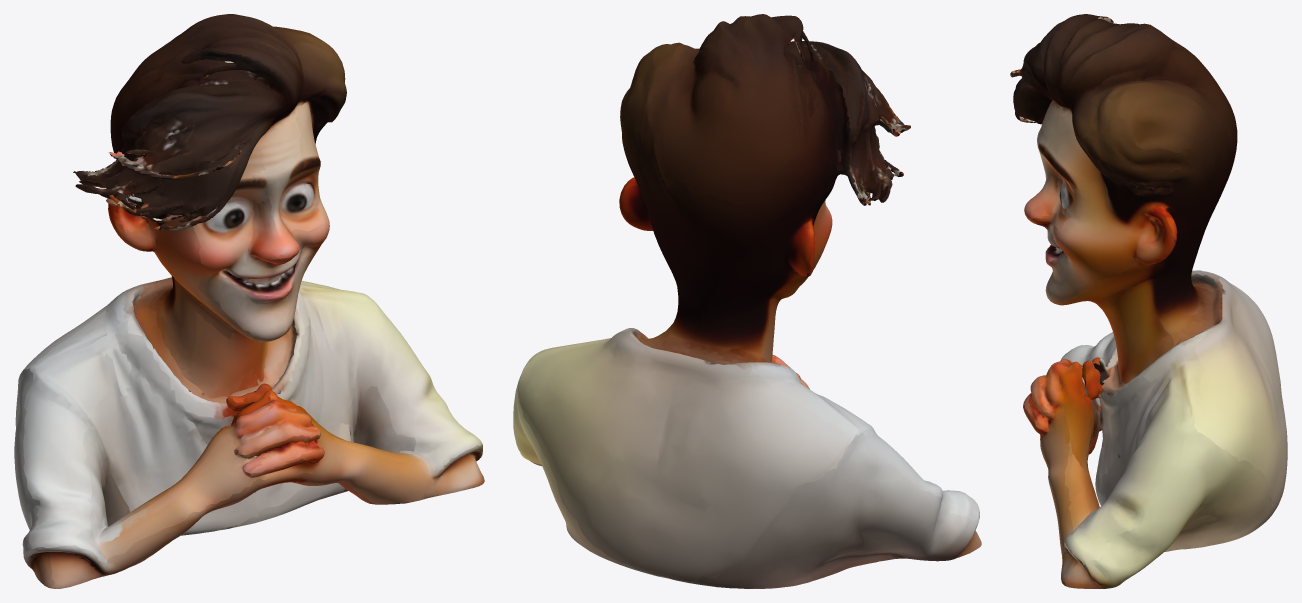
The model's file is idle.glb.
3 renders of one model, left to right at view 1: azimuth 30°, elevation 25°; view 2: azimuth 150°, elevation 25°; view 3: azimuth 270°, elevation 25°, orthographic. The views are drawn at different scales.
Parts seen in each view (by area): view 1: tmp95h7wx6v.ply; view 2: tmp95h7wx6v.ply; view 3: tmp95h7wx6v.ply.
Part boxes in pixels (box(x1,y1,x2,y2)): tmp95h7wx6v.ply: box(14, 14, 484, 588); tmp95h7wx6v.ply: box(513, 14, 981, 588); tmp95h7wx6v.ply: box(1010, 14, 1287, 588).
Size of the model in its own units: 1.92 by 1.99 by 1.09.
1 material, 1 textured.
